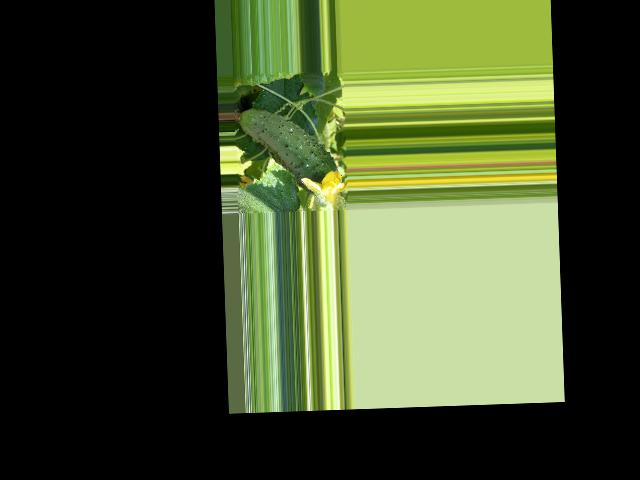cucumber: (233, 105, 338, 196)
